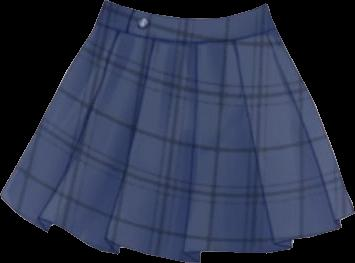Hemline: (0, 194, 354, 262)
Waistline: (95, 22, 277, 43), (105, 0, 267, 20)
